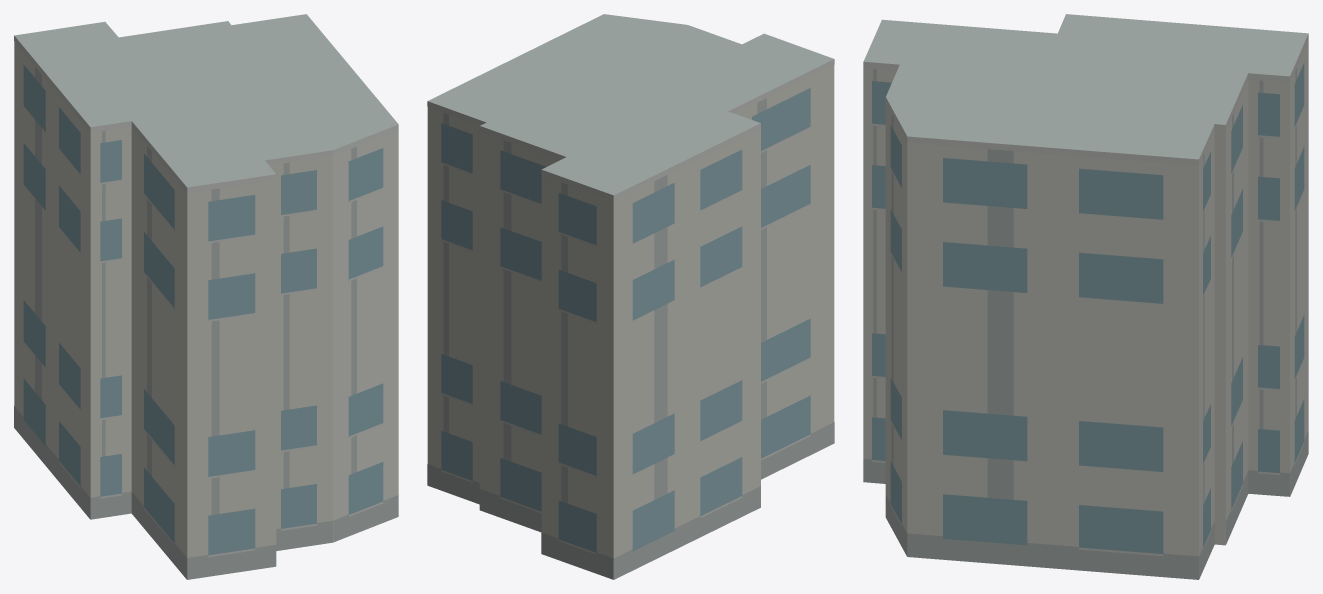
Rendered from survey-upis-32974393.glb.
3 views of the same model, side by side, from view 1: azimuth 30°, elevation 25°; view 2: azimuth 150°, elevation 25°; view 3: azimuth 270°, elevation 25° (orthographic). The views are drawn at different scales.
Parts seen in each view (by area): view 1: survey-upis-32974393.tmp; view 2: survey-upis-32974393.tmp; view 3: survey-upis-32974393.tmp.
Boxes of the visible parts, x1,y1,x2,y2 form: survey-upis-32974393.tmp: (14,14,398,579); survey-upis-32974393.tmp: (427,14,834,579); survey-upis-32974393.tmp: (863,14,1308,579).
Bounding box in the file's own units: 12.18 × 16.4 × 15.75.
